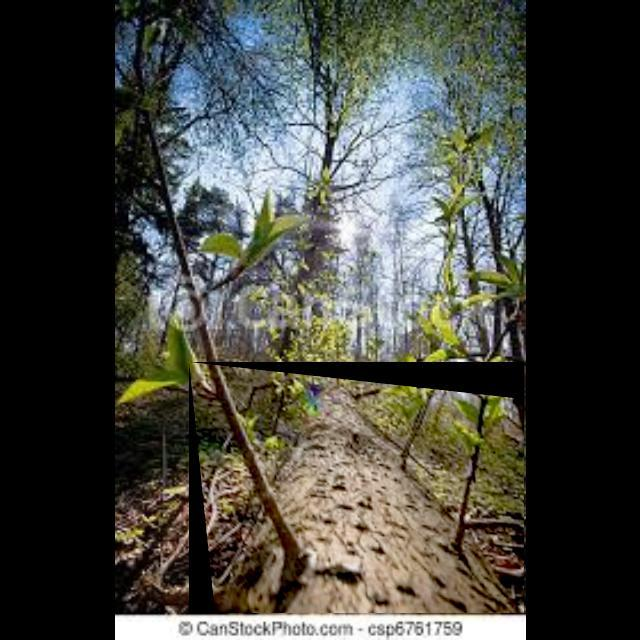fallen_tree: (189, 362, 525, 614)
